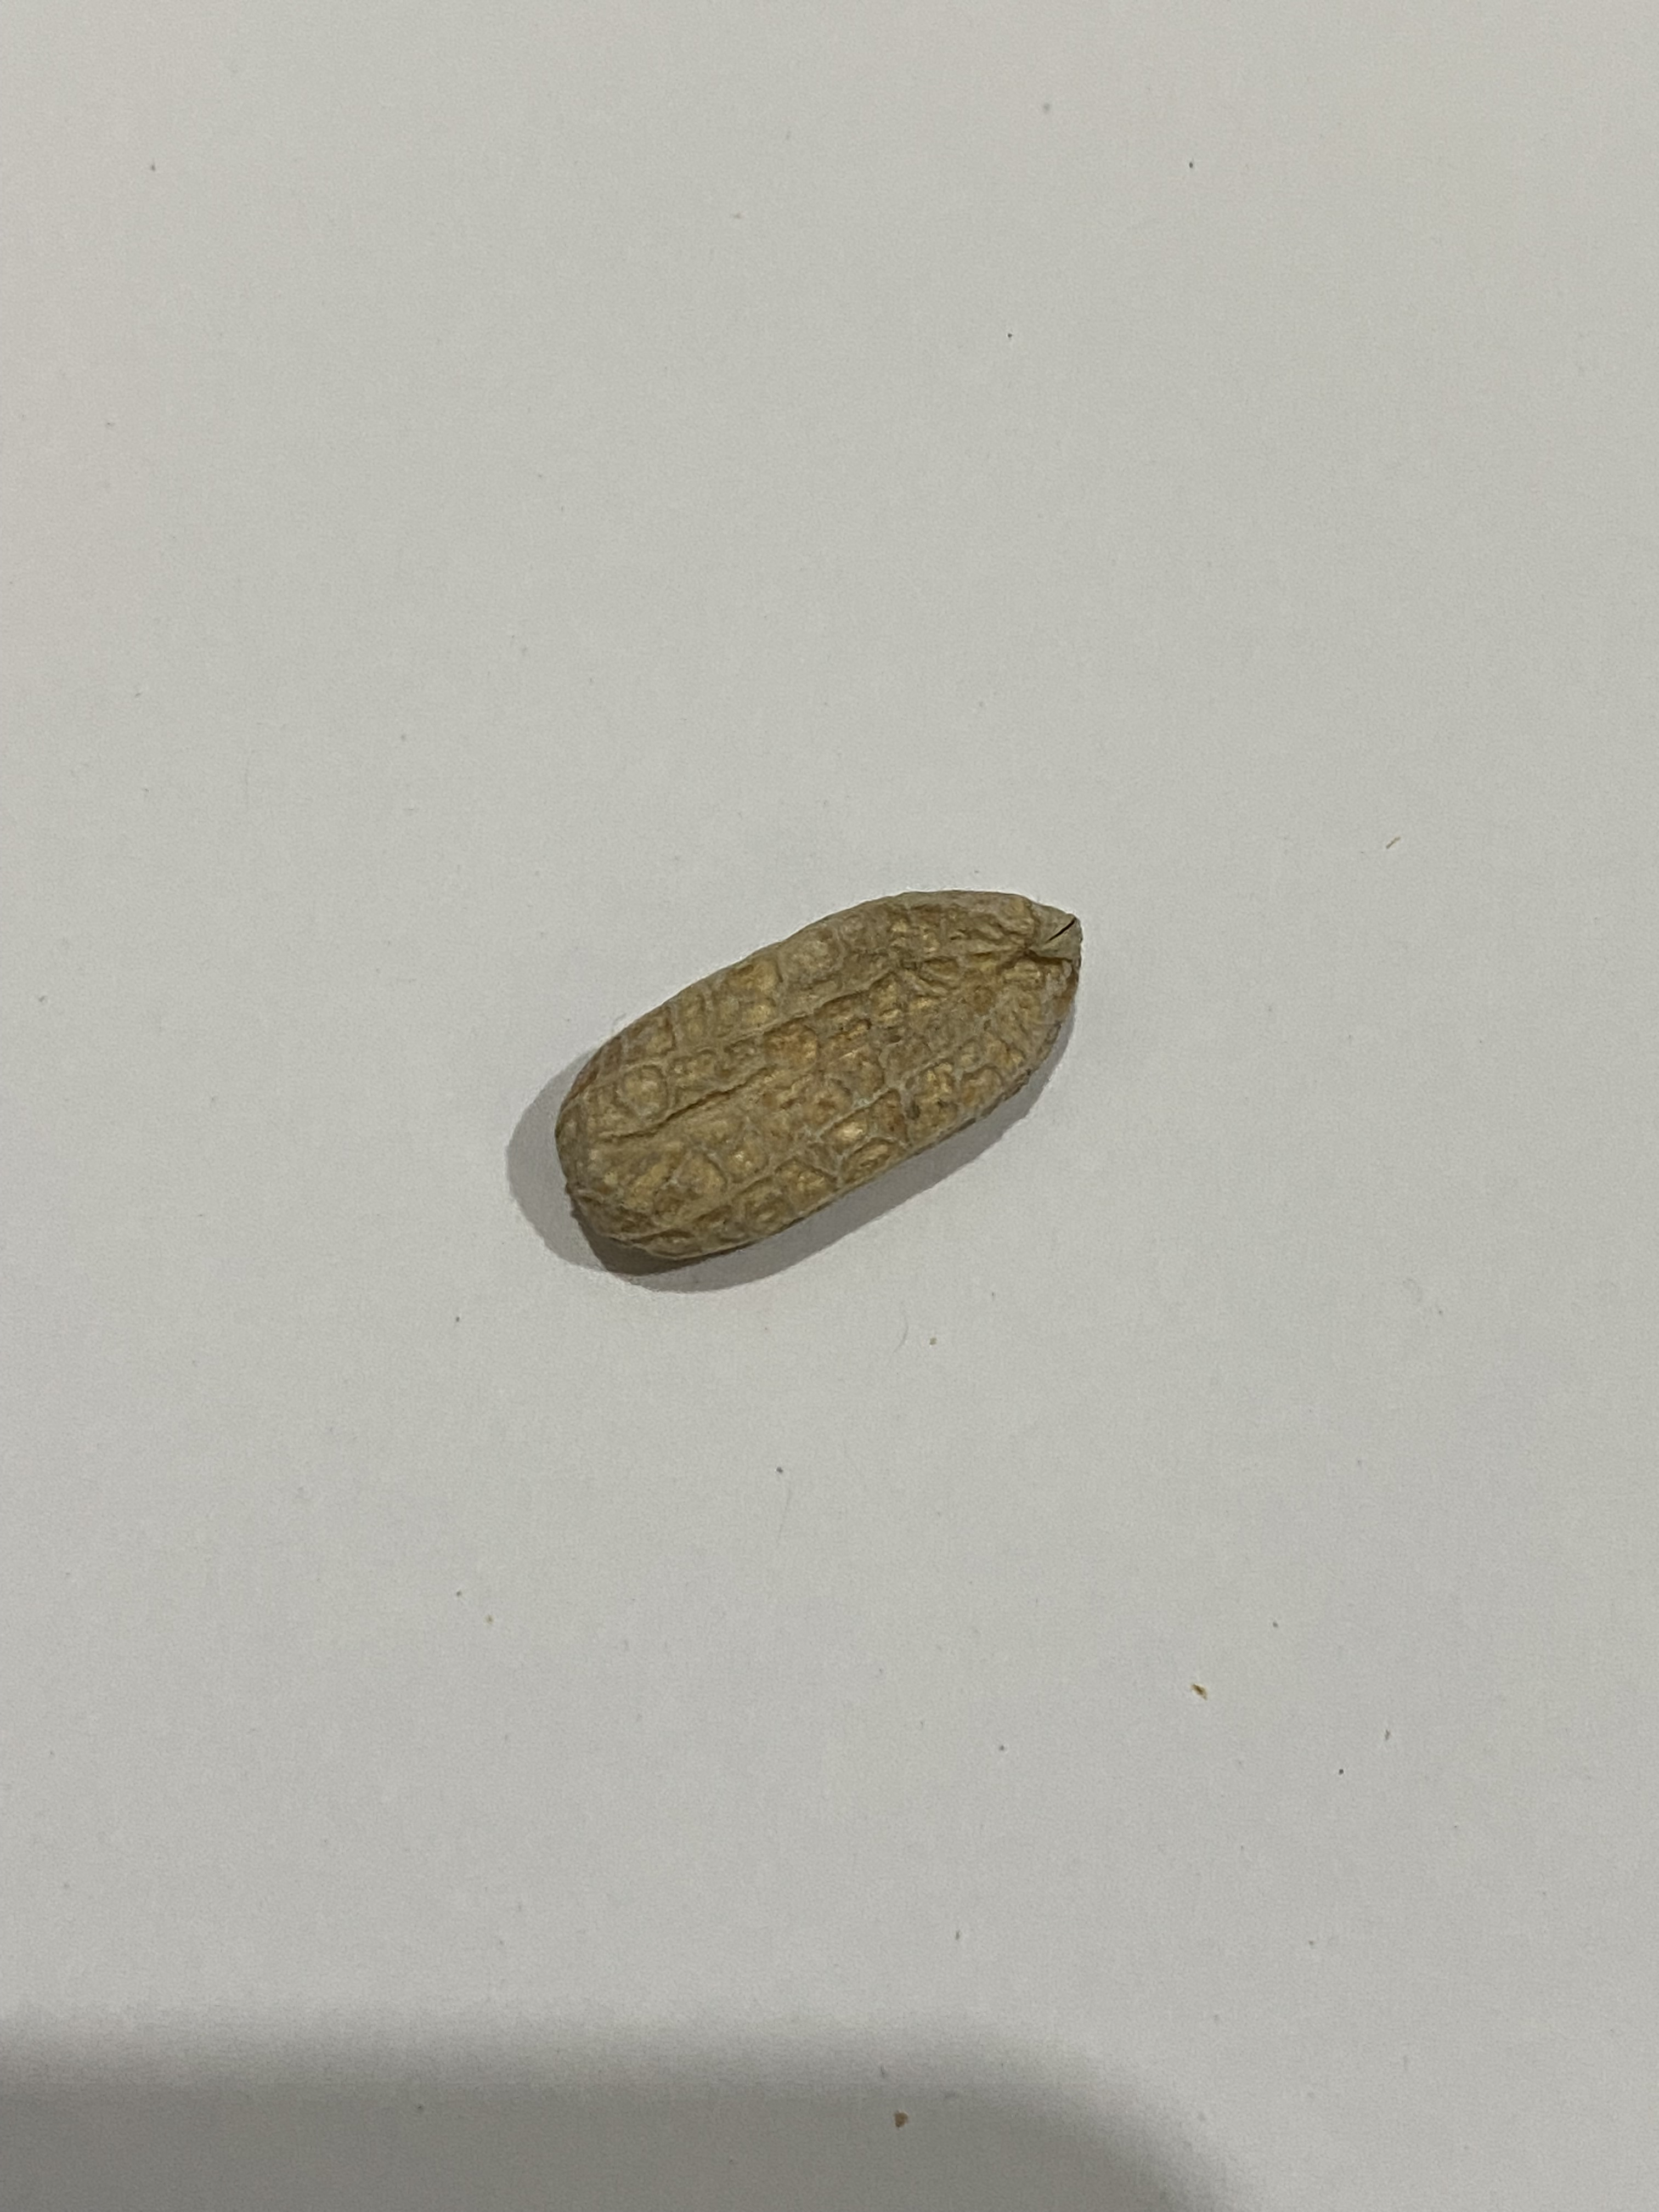kacang2: (509, 883, 1122, 1277)
